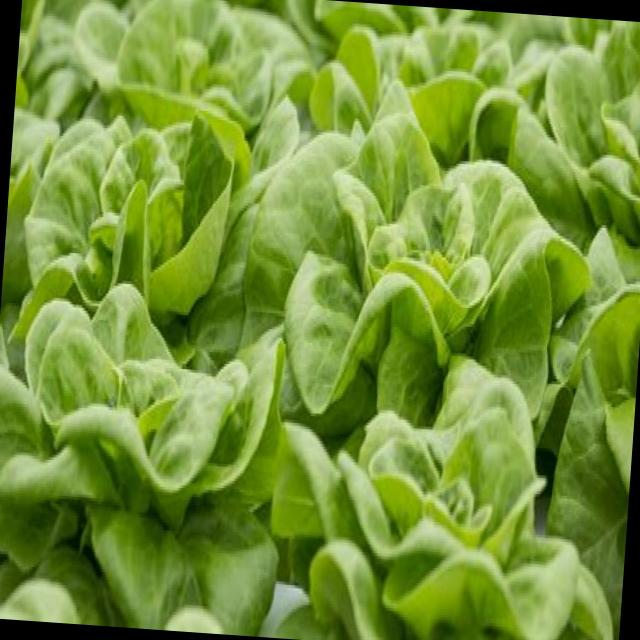Lettuce-Ready-to-Harvest: (14, 65, 570, 626)
